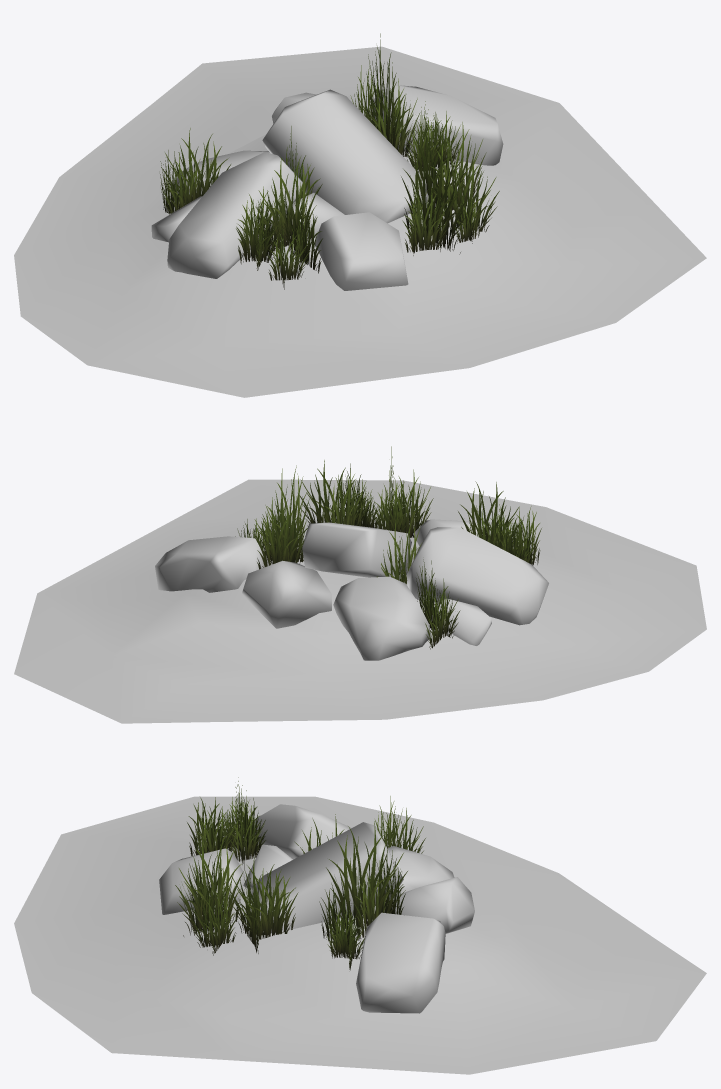
The model's file is Soil_Bricks_Grass_03.fbx.
3 views of the same model, one above another, from view 1: azimuth 30°, elevation 25°; view 2: azimuth 150°, elevation 25°; view 3: azimuth 270°, elevation 25° (orthographic). The views are drawn at different scales.
Visible parts, largest first — view 1: Soil_Bricks_Grass_03_LOD0; view 2: Soil_Bricks_Grass_03_LOD0; view 3: Soil_Bricks_Grass_03_LOD0.
Boxes of the visible parts, x1,y1,x2,y2 form: Soil_Bricks_Grass_03_LOD0: (14, 33, 706, 397); Soil_Bricks_Grass_03_LOD0: (14, 446, 706, 723); Soil_Bricks_Grass_03_LOD0: (14, 777, 706, 1074).
Size of what is drawn, in the model's own units: 7.52 by 7.92 by 2.05.
